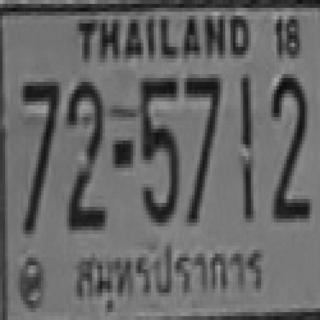N01: (239, 72, 252, 217)
N02: (65, 84, 104, 228), (270, 74, 308, 218), (65, 80, 104, 220), (269, 72, 307, 209)
N05: (138, 74, 177, 222)
N07: (20, 78, 59, 230), (183, 74, 219, 222), (20, 80, 59, 189), (20, 80, 59, 178), (183, 76, 219, 178)
P57: (69, 244, 270, 314)
